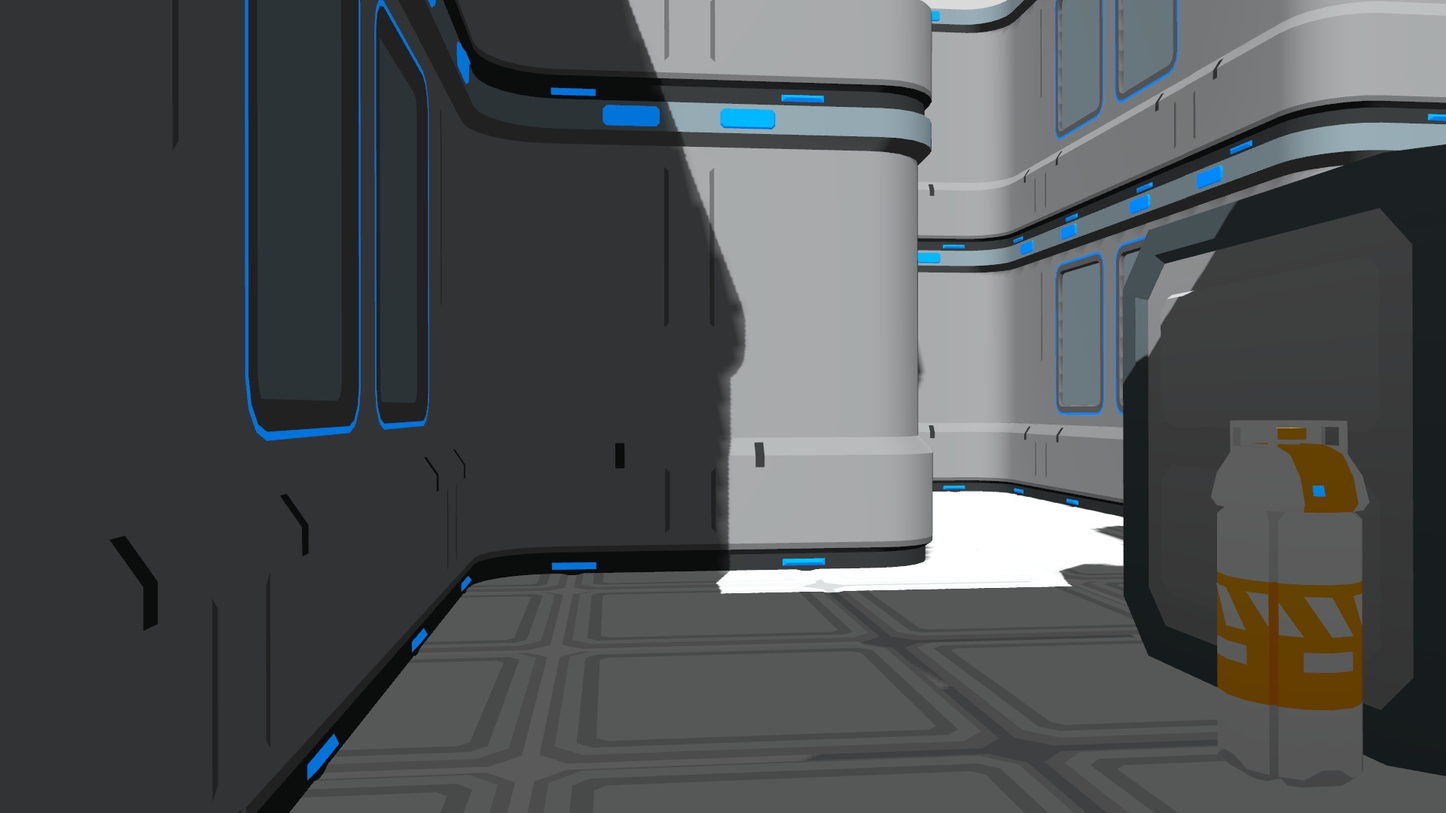yellow_barrel: (1206, 408, 1379, 791)
